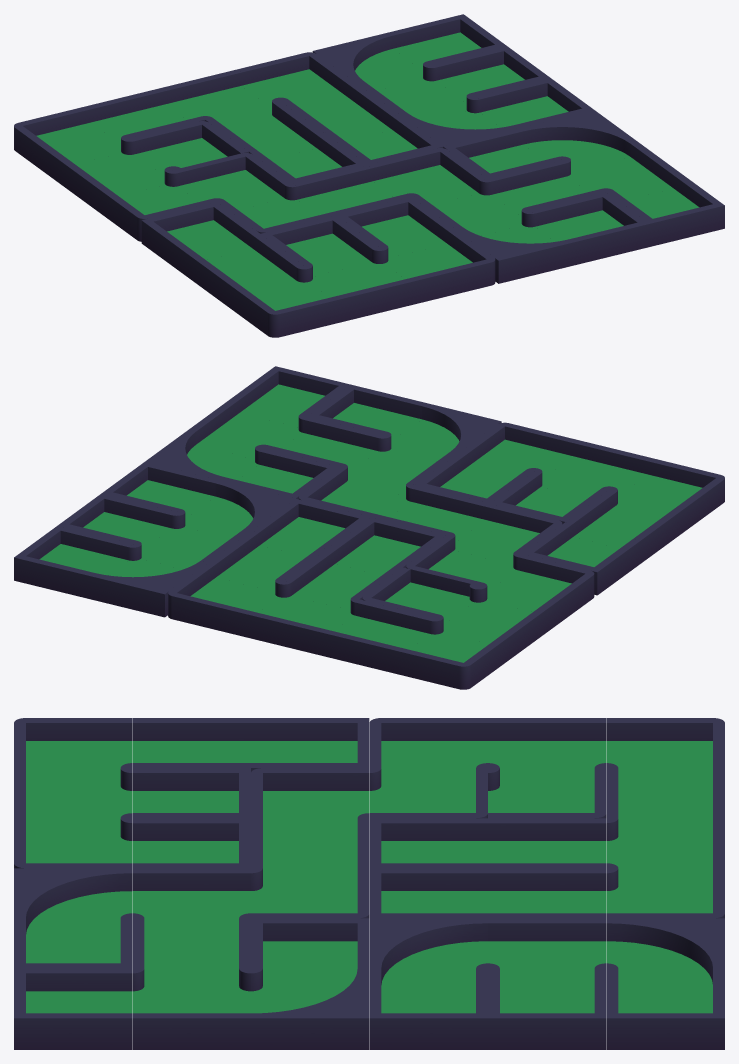
Rendered from level_3.glb.
3 views of the same model, one above another, from view 1: azimuth 30°, elevation 25°; view 2: azimuth 150°, elevation 25°; view 3: azimuth 270°, elevation 25° (orthographic). The views are drawn at different scales.
Visible parts, largest first — view 1: mergedBlocks(Clone); view 2: mergedBlocks(Clone); view 3: mergedBlocks(Clone).
Part boxes in pixels (x1,y1,x2,y2): mergedBlocks(Clone): (14,14,724,337); mergedBlocks(Clone): (14,366,724,689); mergedBlocks(Clone): (14,718,724,1049).
Bounding box in the file's own units: 6 × 0.2933 × 6.
1 material, 1 textured.
